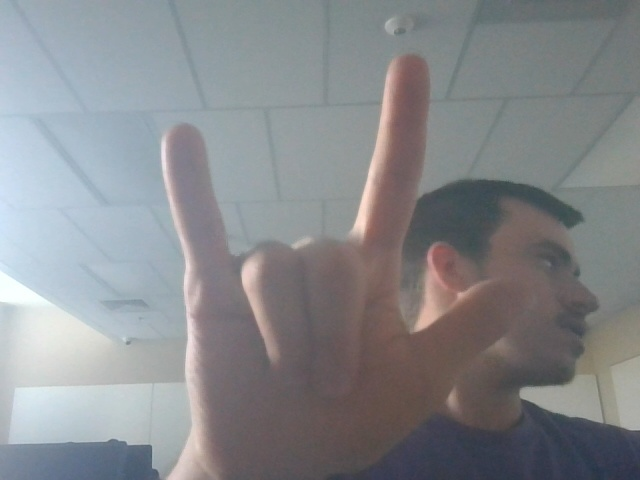iloveyou: (147, 38, 527, 480)
